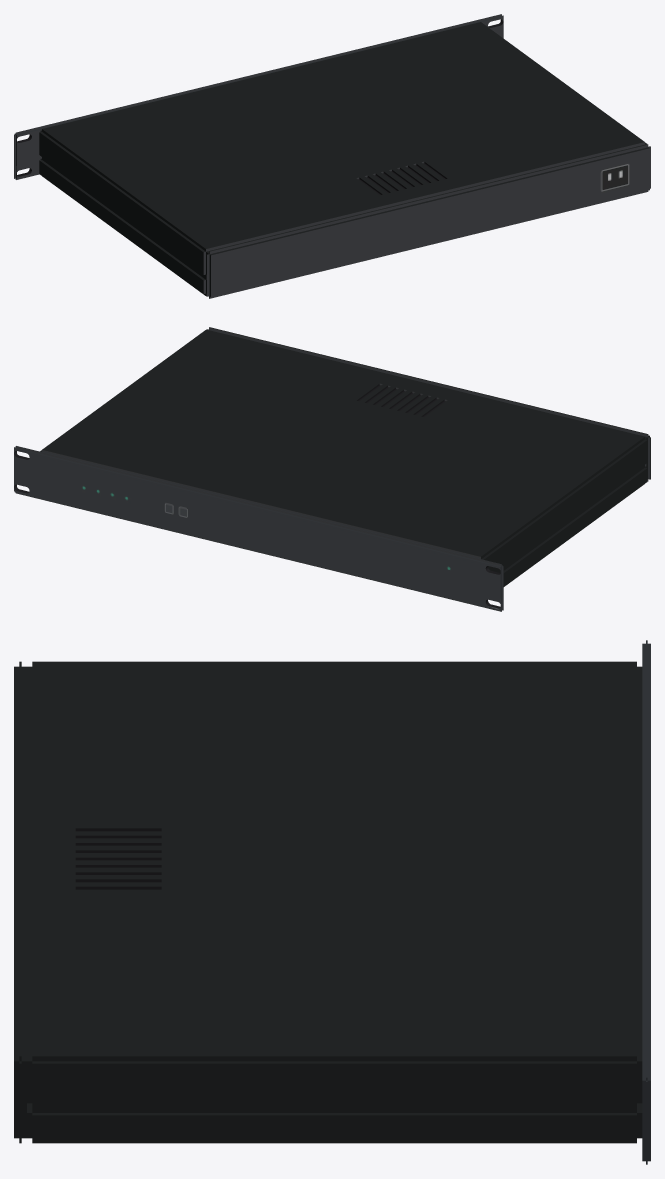
File: shure-ua845uwb.glb
3 views of the same model, one above another, from view 1: azimuth 30°, elevation 25°; view 2: azimuth 150°, elevation 25°; view 3: azimuth 270°, elevation 25° (orthographic). The views are drawn at different scales.
Parts seen in each view (by area): view 1: shure-ua845uwb-body; view 2: shure-ua845uwb-body; view 3: shure-ua845uwb-body.
Boxes of the visible parts, box(x1,y1,x2,y2) form: shure-ua845uwb-body: box(14, 14, 650, 298); shure-ua845uwb-body: box(14, 327, 650, 611); shure-ua845uwb-body: box(14, 640, 650, 1164).
Size of the model in its own units: 0.4826 by 0.0445 by 0.2953.
Materials: 1 (1 with a texture image).
